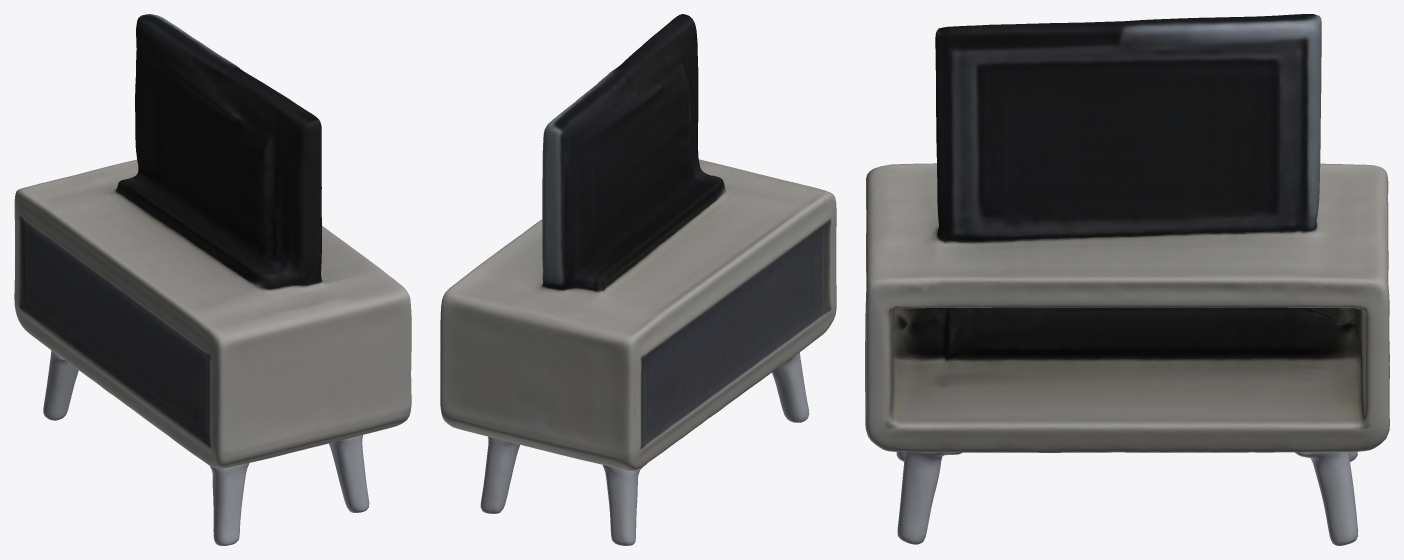
File: ad53fd0b84fa_tv_with_shelf__3d_a.fbx
3 views of the same model, side by side, from view 1: azimuth 30°, elevation 25°; view 2: azimuth 150°, elevation 25°; view 3: azimuth 270°, elevation 25° (orthographic). The views are drawn at different scales.
Parts seen in each view (by area): view 1: high_poly; view 2: high_poly; view 3: high_poly.
Part boxes in pixels (bbox=[...]): high_poly: bbox=[14, 14, 411, 545]; high_poly: bbox=[440, 14, 836, 545]; high_poly: bbox=[865, 14, 1389, 545].
Size of the model in its own units: 52.19 by 100 by 96.15.
